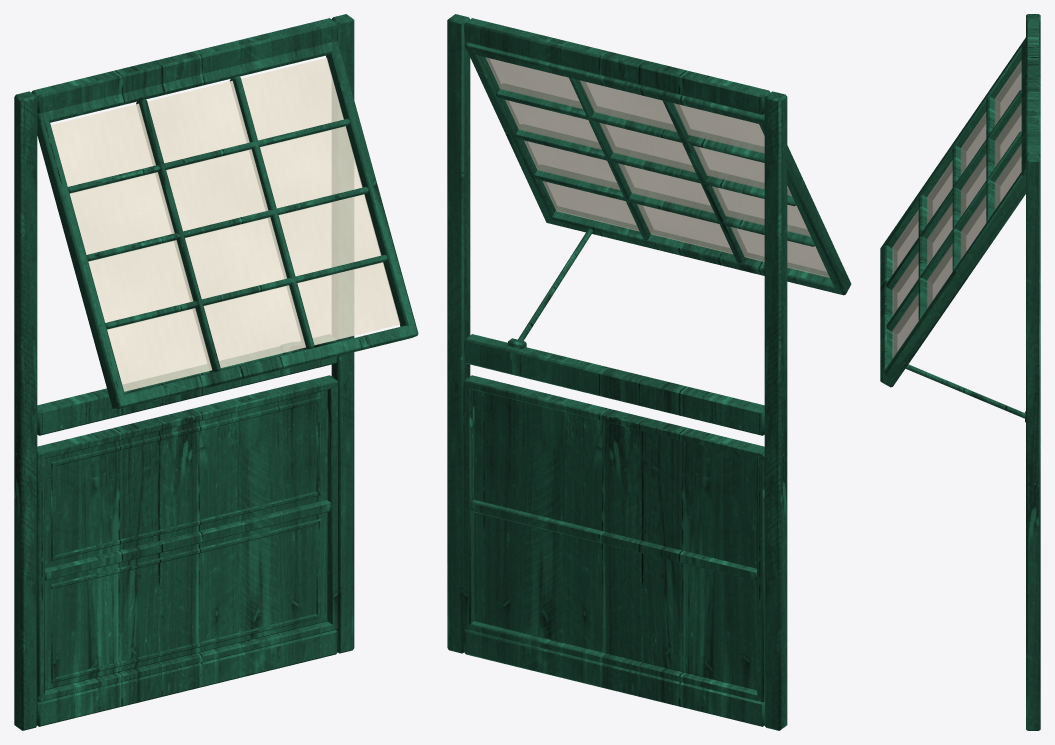
Rendered from chuang-zhizhai.glb.
3 renders of one model, left to right at view 1: azimuth 30°, elevation 25°; view 2: azimuth 150°, elevation 25°; view 3: azimuth 270°, elevation 25°, orthographic. The views are drawn at different scales.
Parts seen in each view (by area): view 1: zhizhai_lower, zhizhai_paper, zhizhai_frame, zhizhai_upper; view 2: zhizhai_lower, zhizhai_frame, zhizhai_upper, zhizhai_paper, zhizhai_prop; view 3: zhizhai_upper, zhizhai_frame, zhizhai_paper, zhizhai_prop.
Boxes of the visible parts, <box> form: zhizhai_lower: <box>37,375,337,702</box>; zhizhai_paper: <box>51,57,400,391</box>; zhizhai_frame: <box>14,14,354,730</box>; zhizhai_upper: <box>37,40,418,410</box>; zhizhai_lower: <box>463,375,764,702</box>; zhizhai_frame: <box>447,14,787,730</box>; zhizhai_upper: <box>465,43,851,295</box>; zhizhai_paper: <box>485,57,829,277</box>; zhizhai_prop: <box>508,228,593,348</box>; zhizhai_upper: <box>880,37,1025,387</box>; zhizhai_frame: <box>1026,14,1040,730</box>; zhizhai_paper: <box>892,60,1021,358</box>; zhizhai_prop: <box>882,355,1025,422</box>.
Bounding box in the file's own units: 0.84 × 1.52 × 0.3873.
2 materials, 2 textured.
